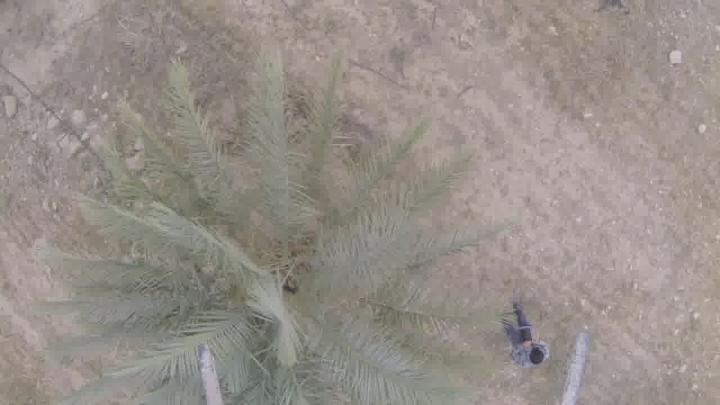Date-Palm-Crown: (162, 161, 414, 405)
